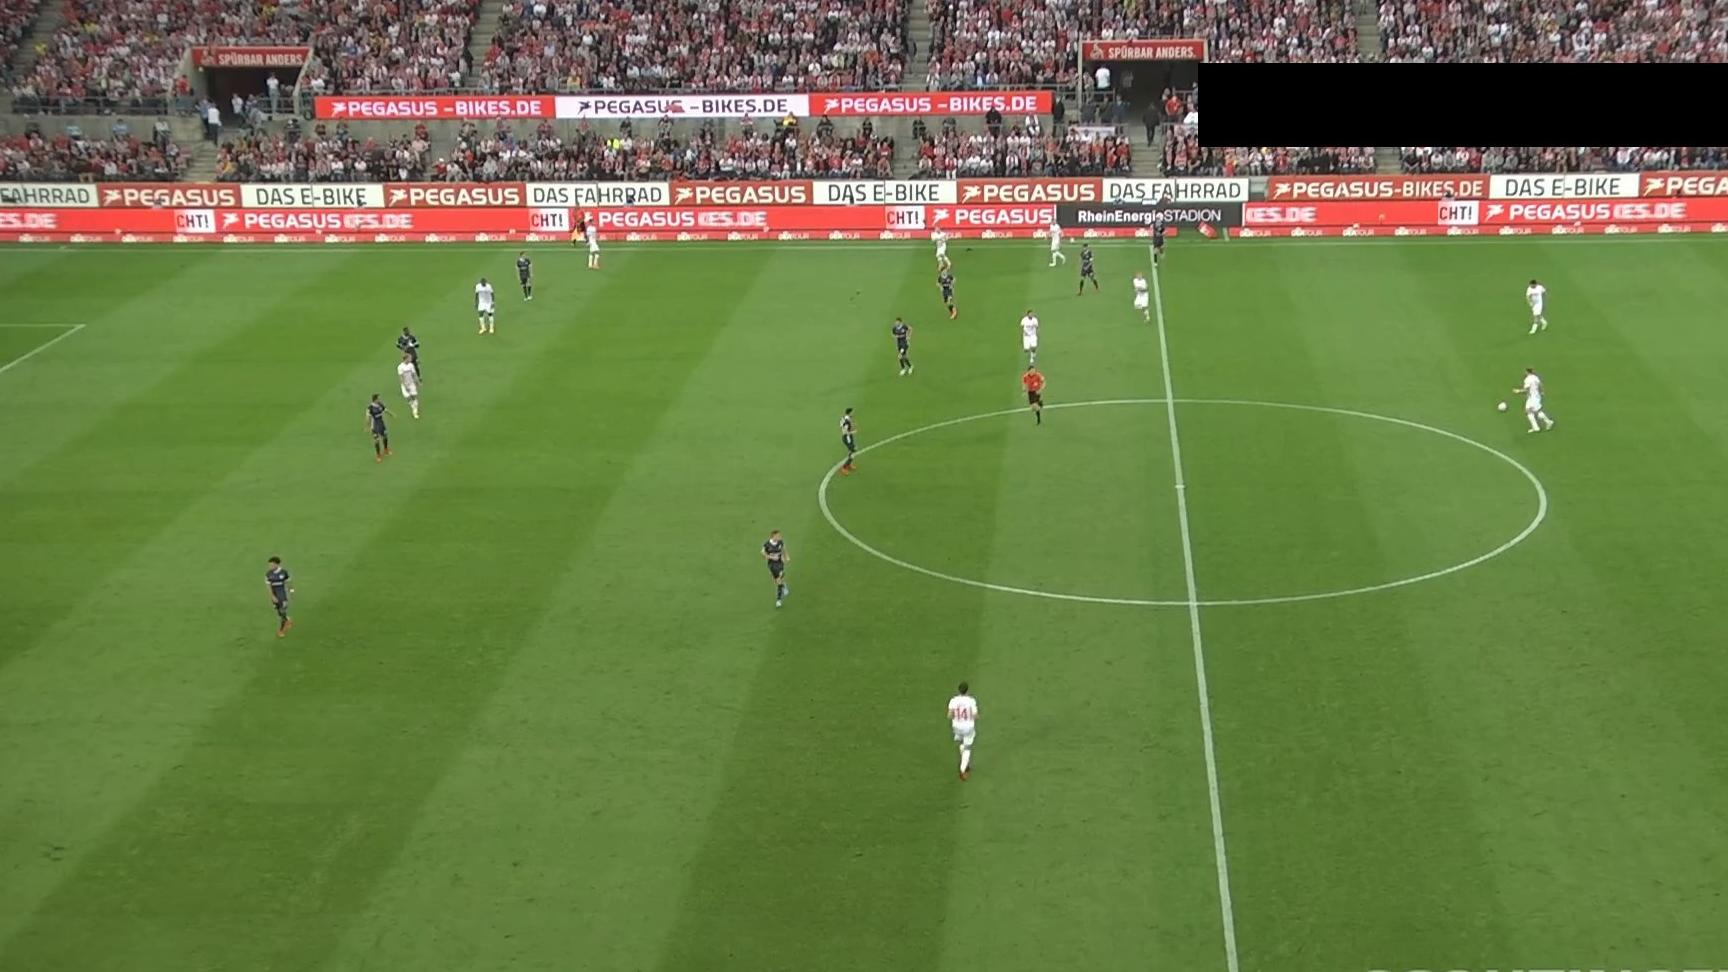ball: (1497, 400, 1508, 413)
